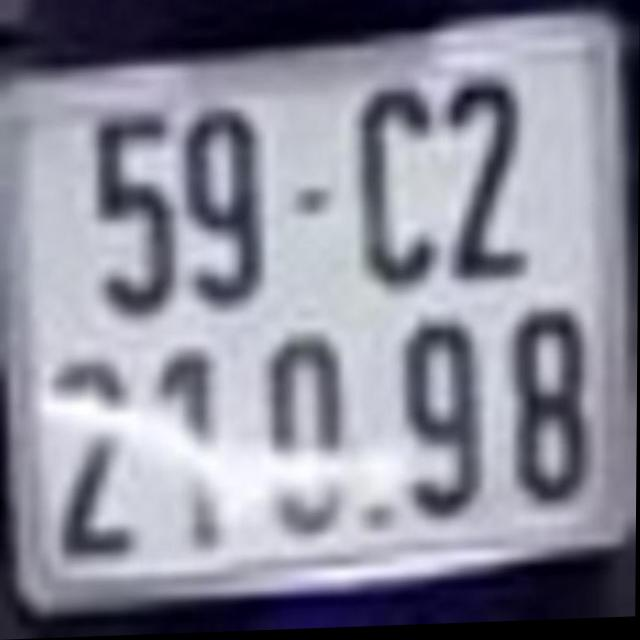0: (259, 324, 347, 541)
1: (153, 348, 229, 551)
2: (50, 353, 143, 556), (452, 90, 532, 291)
5: (89, 110, 184, 322)
8: (511, 306, 589, 505)
9: (399, 321, 489, 527), (187, 111, 267, 311)
C: (354, 88, 442, 290)
